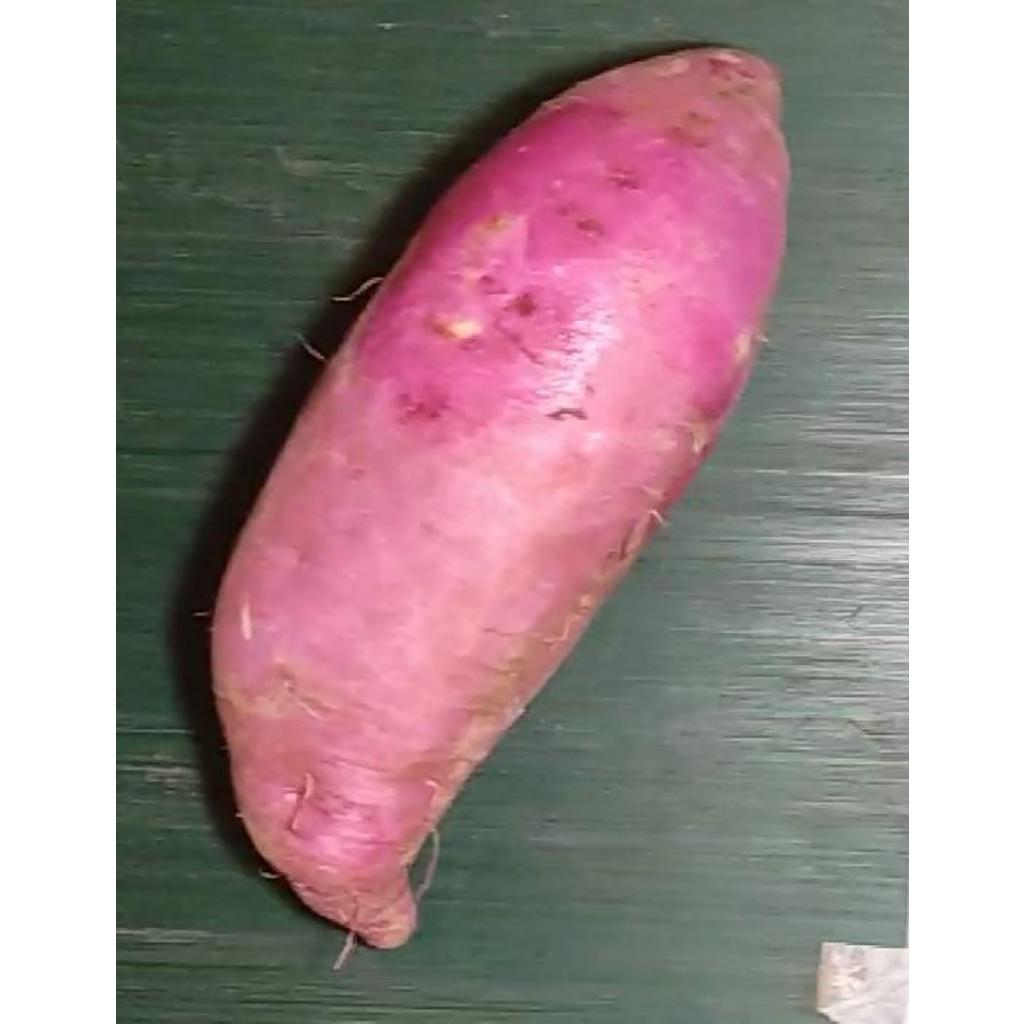Sweet Potato: (205, 44, 793, 953)
